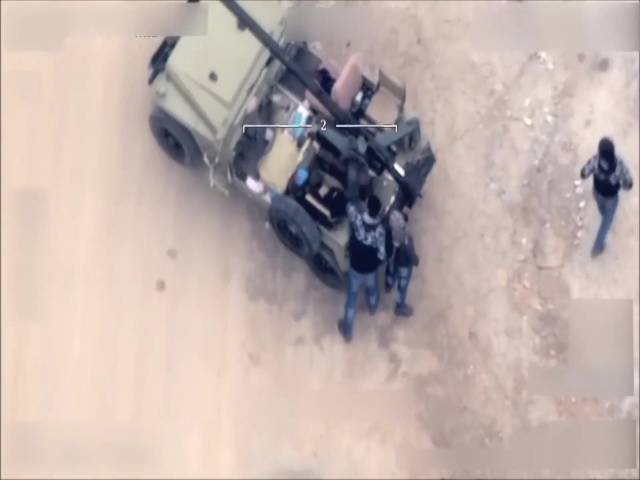person: (577, 136, 634, 260), (336, 194, 381, 340), (384, 200, 417, 321)
vehicle: (145, 1, 437, 282)
